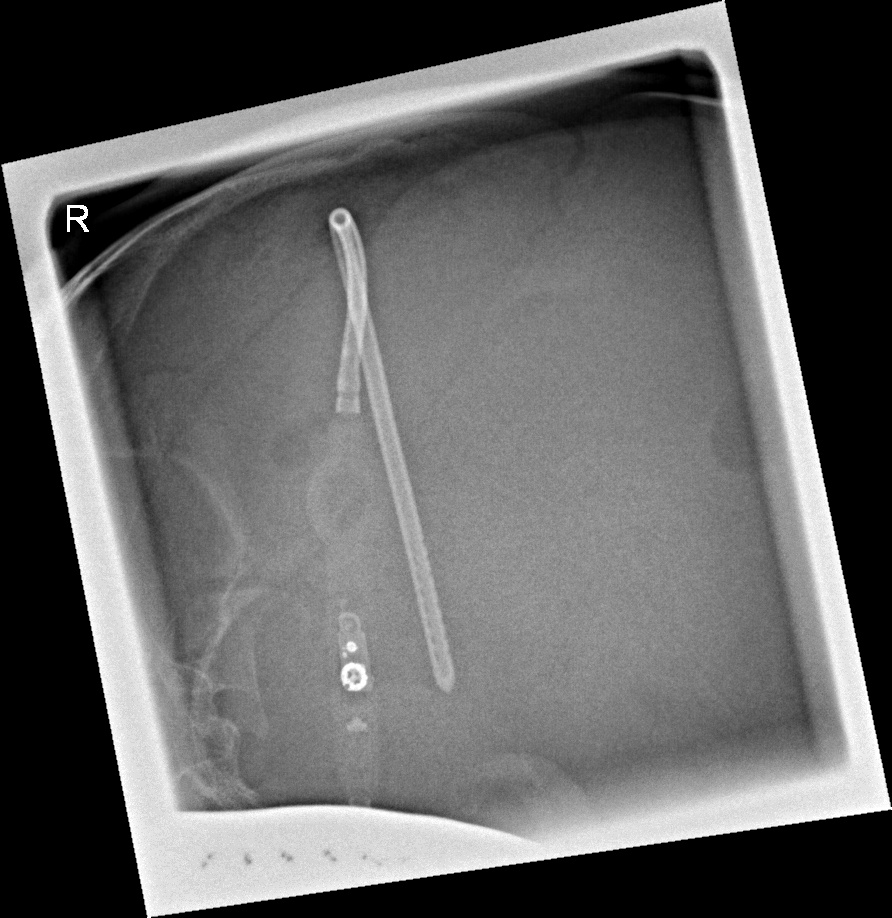Codman Hakim: (330, 623, 376, 709)
